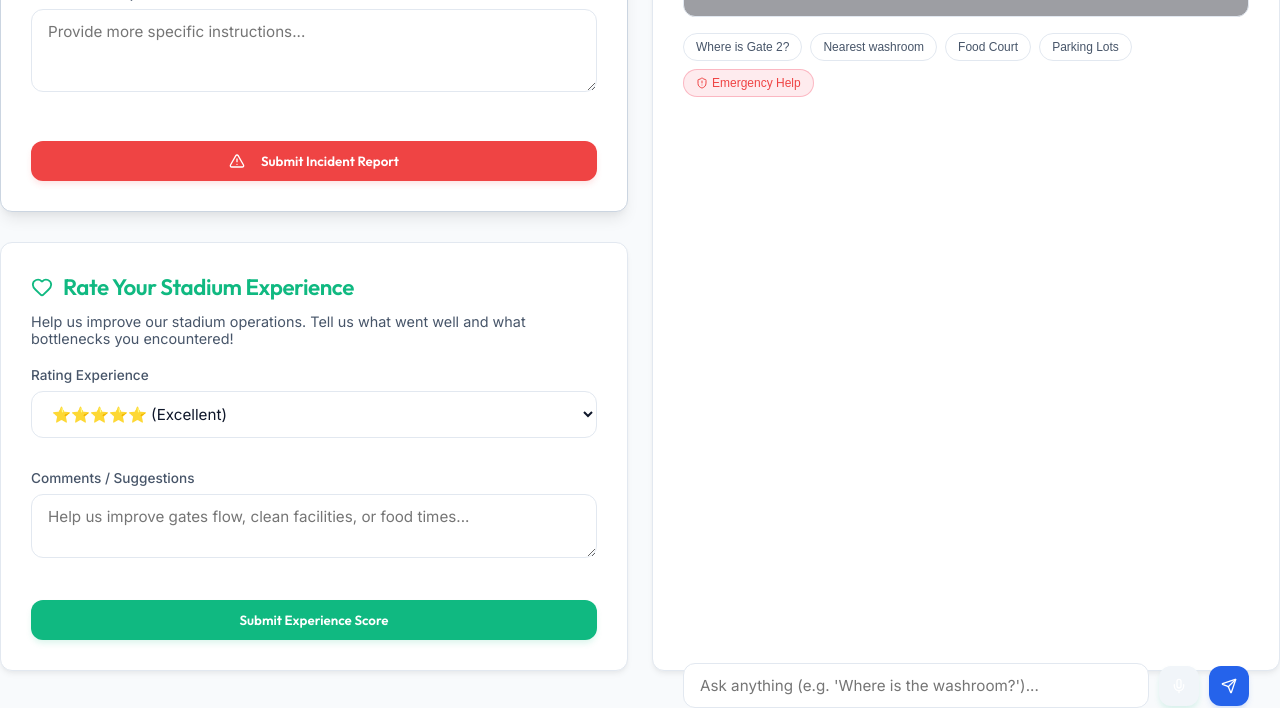
Test: StadiumAssist Jest Test Suite › 1. FanAssistant Knowledge-Base Fallback Logic › correctly queries Gemini via askGenieCallable for unknown queries
This screenshot has width=1280, height=708.
(page scrolled)
Query has no FAQ matches
Type "What is the stadium weather policy?" into the field named "Chat input query" at (916, 686), box [683,663,1149,707]
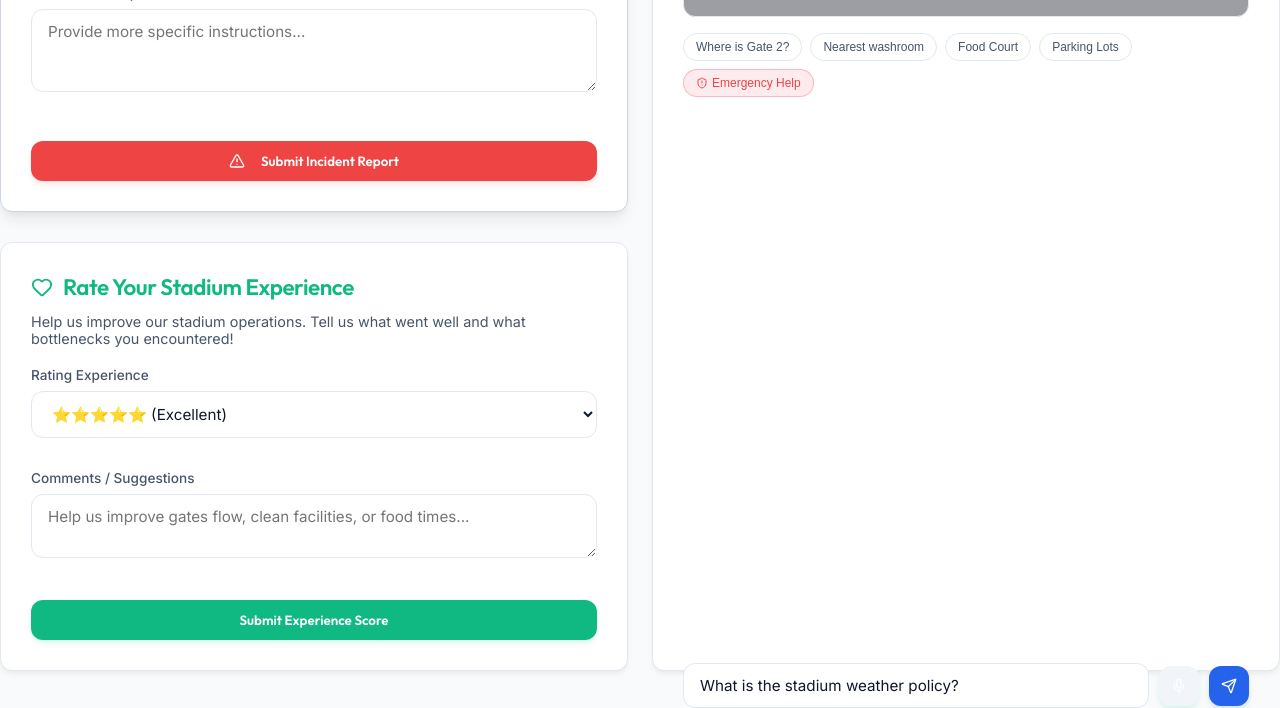
Click the button named "Send message" at (1229, 686), box [1209,666,1249,706]
(page scrolled)
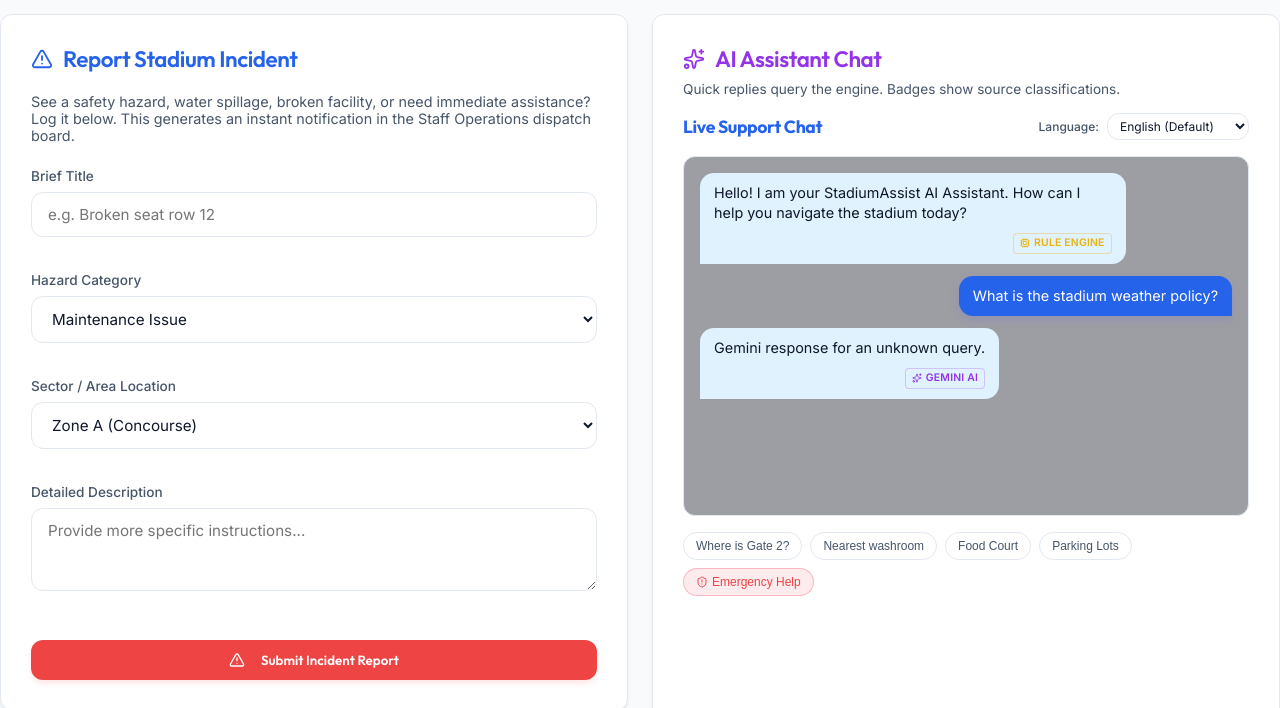
Now the text "Gemini response for an unknown query." is shown, box [714,338,985,358]
